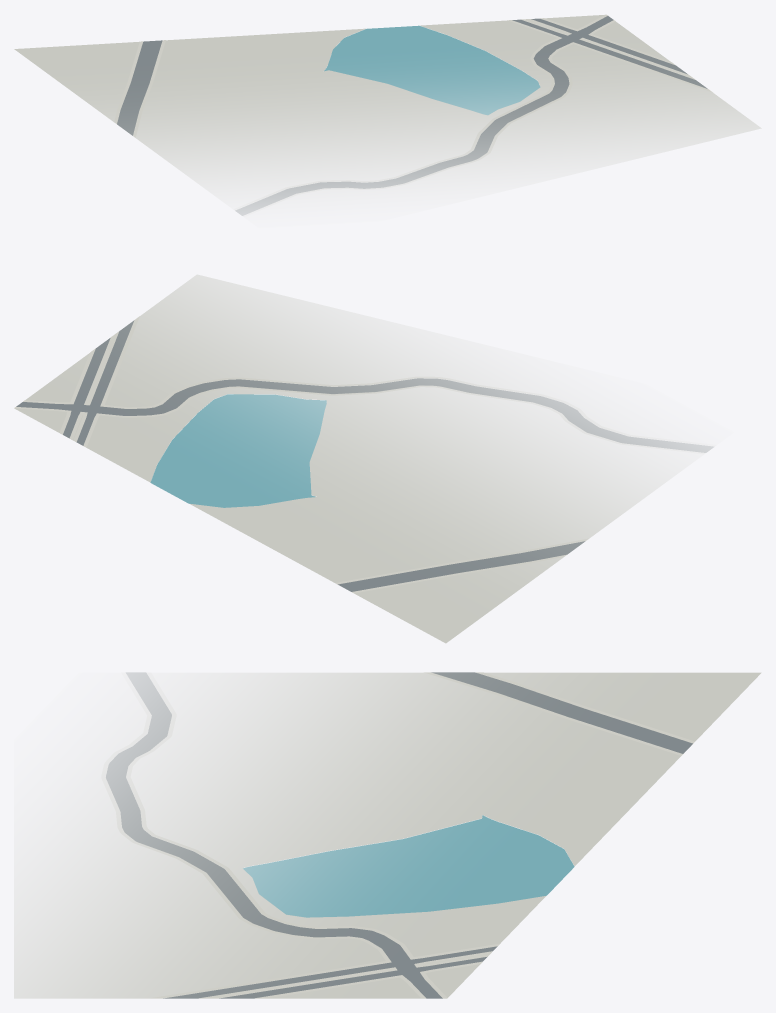
3 views of the same model, one above another, from view 1: azimuth 30°, elevation 25°; view 2: azimuth 150°, elevation 25°; view 3: azimuth 270°, elevation 25° (orthographic). The views are drawn at different scales.
Parts seen in each view (by area): view 1: city; view 2: city; view 3: city.
Boxes of the visible parts, box(x1,y1,x2,y2) form: city: box(14, 14, 761, 215); city: box(14, 274, 713, 643); city: box(14, 672, 761, 998).
Bounding box in the file's own units: 500 × 0.4 × 484.
